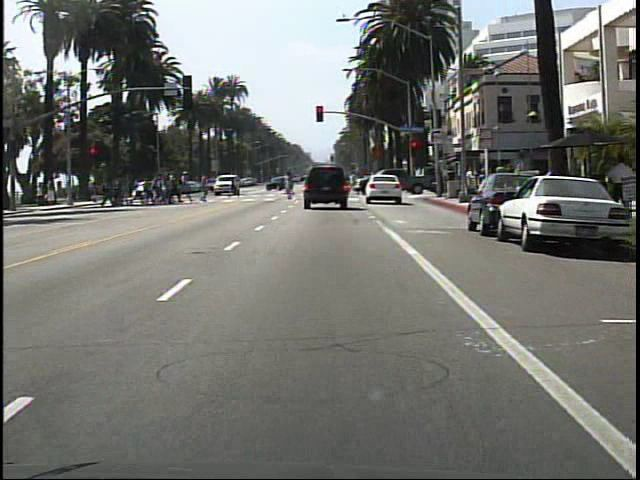person: (603, 153, 637, 233), (347, 167, 364, 204), (226, 171, 245, 203)
